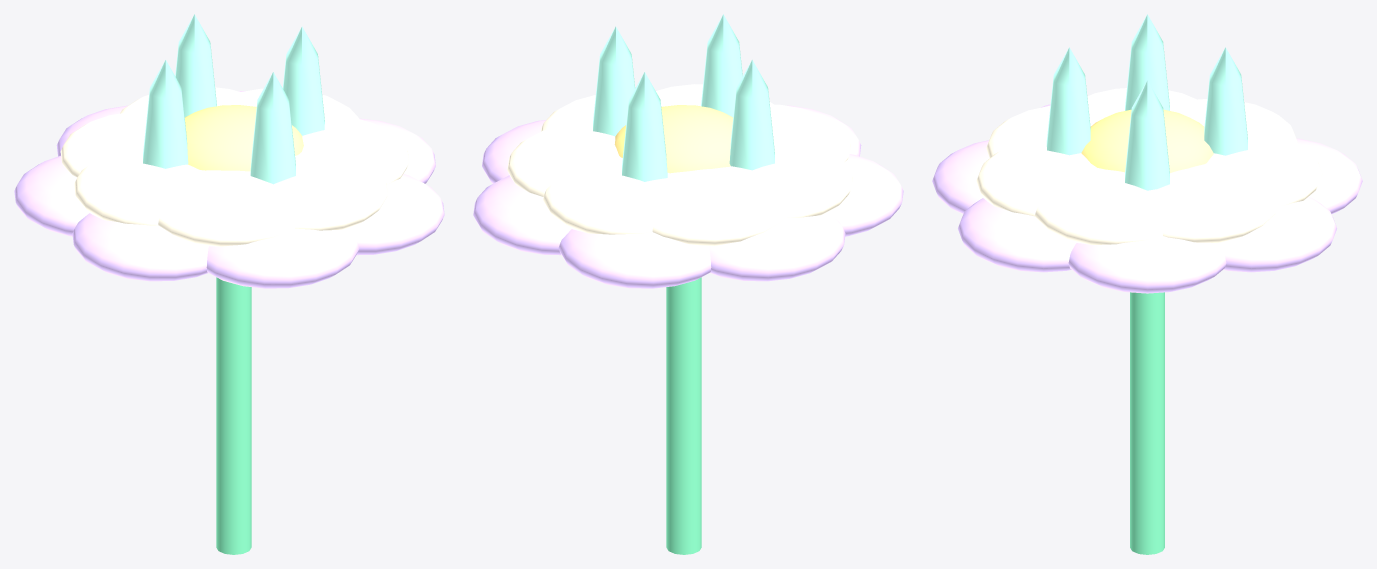
The model's file is st_dream_cflower.glb.
The picture shows the model from 3 angles, left to right: view 1: azimuth 30°, elevation 25°; view 2: azimuth 150°, elevation 25°; view 3: azimuth 270°, elevation 25°; orthographic projection.
Parts seen in each view (by area): view 1: Crystal_Flower; view 2: Crystal_Flower; view 3: Crystal_Flower.
Part boxes in pixels (x1=…): Crystal_Flower: x1=14, y1=14, x2=444, y2=554; Crystal_Flower: x1=473, y1=14, x2=903, y2=554; Crystal_Flower: x1=932, y1=14, x2=1362, y2=554.
Size of the model in its own units: 0.7604 by 0.99 by 0.7721.
